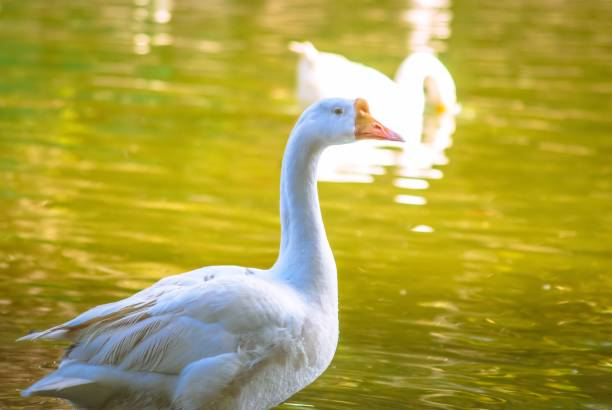goose: (18, 95, 407, 410)
